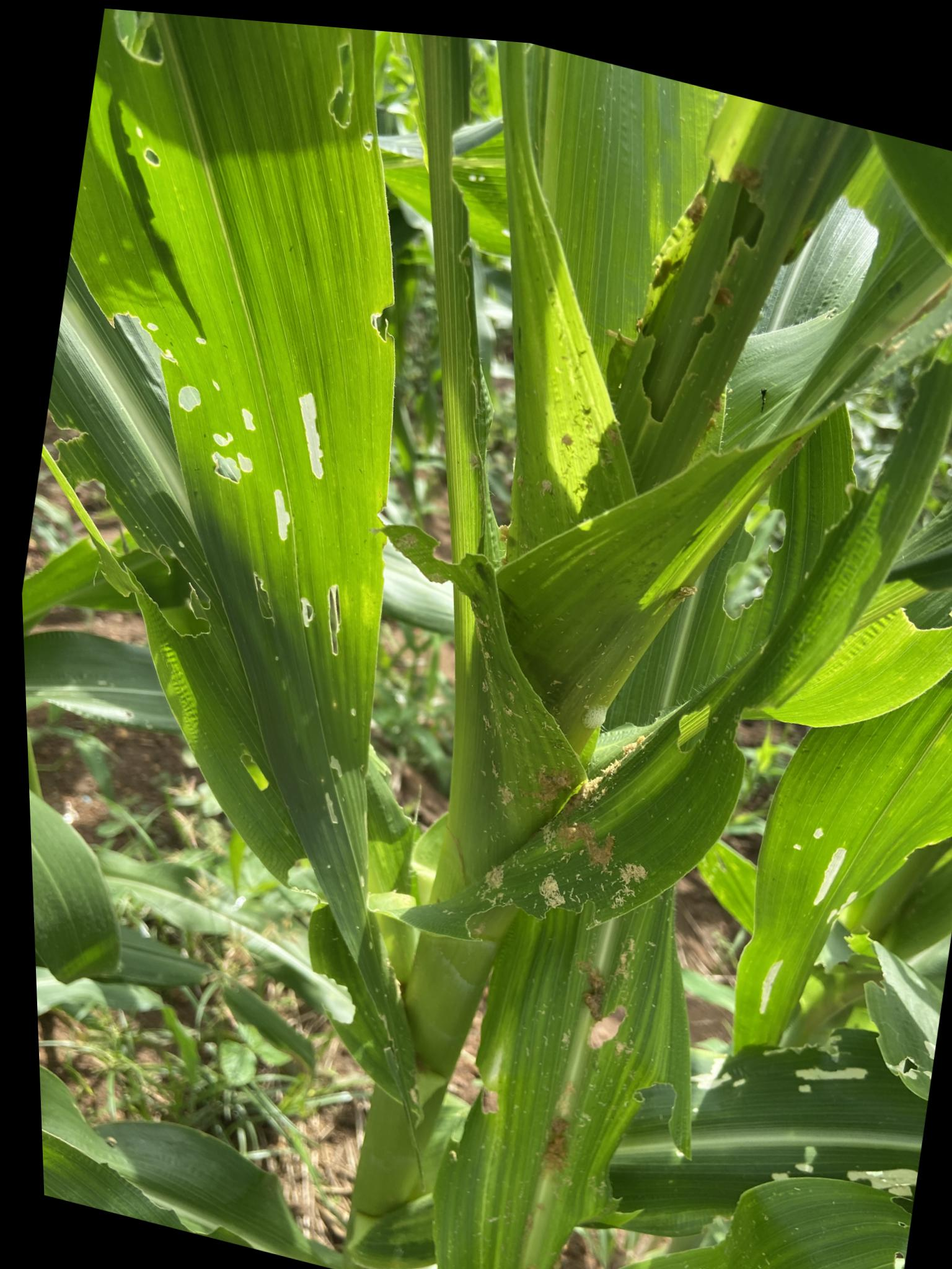early_to_moderate: (383, 669, 715, 1014)
severe: (515, 68, 835, 484), (40, 294, 284, 674), (622, 970, 787, 1198), (306, 20, 452, 171), (799, 900, 946, 1038), (658, 1201, 881, 1268), (856, 536, 951, 656), (214, 14, 363, 69), (113, 7, 188, 94)
